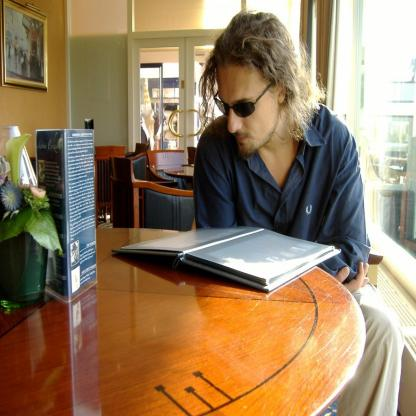book: (110, 224, 342, 291)
